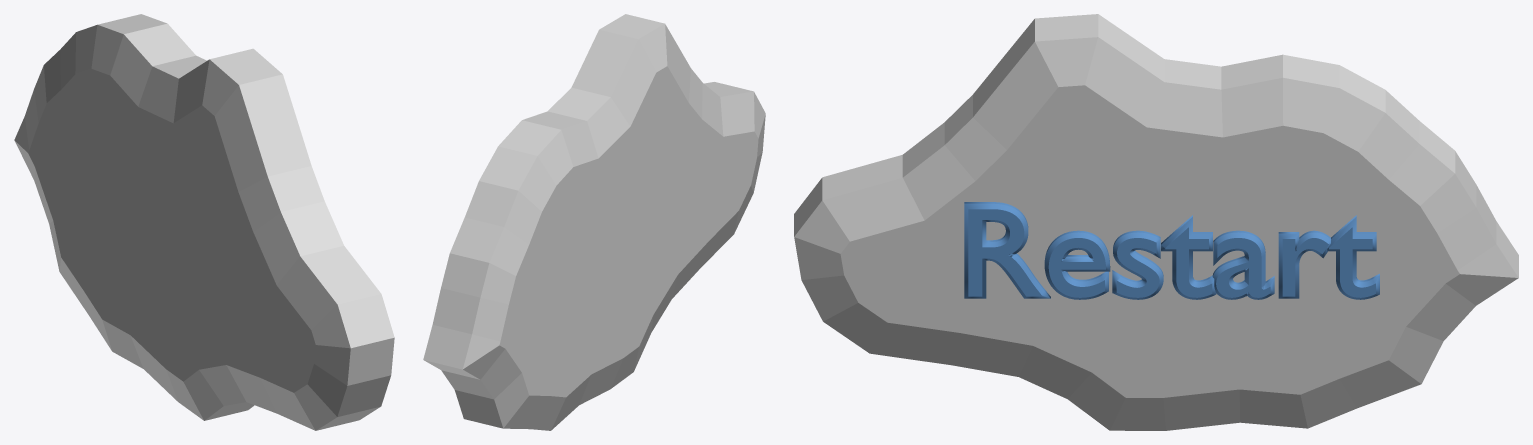
The model's file is MRUIRestart.fbx.
3 renders of one model, left to right at view 1: azimuth 30°, elevation 25°; view 2: azimuth 150°, elevation 25°; view 3: azimuth 270°, elevation 25°, orthographic. The views are drawn at different scales.
Visible parts, largest first — view 1: RestartTile; view 2: RestartTile; view 3: RestartTile, Restart.
Part boxes in pixels (box(x1,y1,x2,y2)): RestartTile: box(14, 14, 394, 430); RestartTile: box(423, 14, 765, 430); RestartTile: box(794, 14, 1518, 430); Restart: box(964, 202, 1379, 299).
Bounding box in the file's own units: 17.79 × 80.31 × 134.
